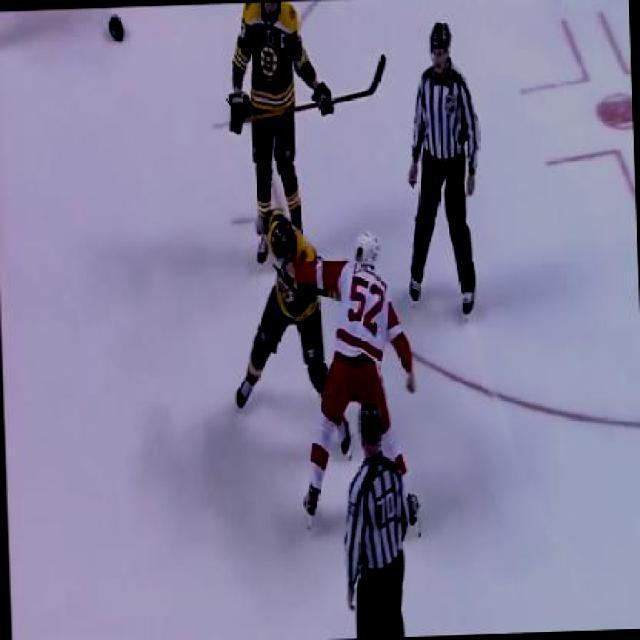fight: (233, 212, 419, 438)
non-fight: (400, 14, 486, 323), (342, 403, 412, 639)
